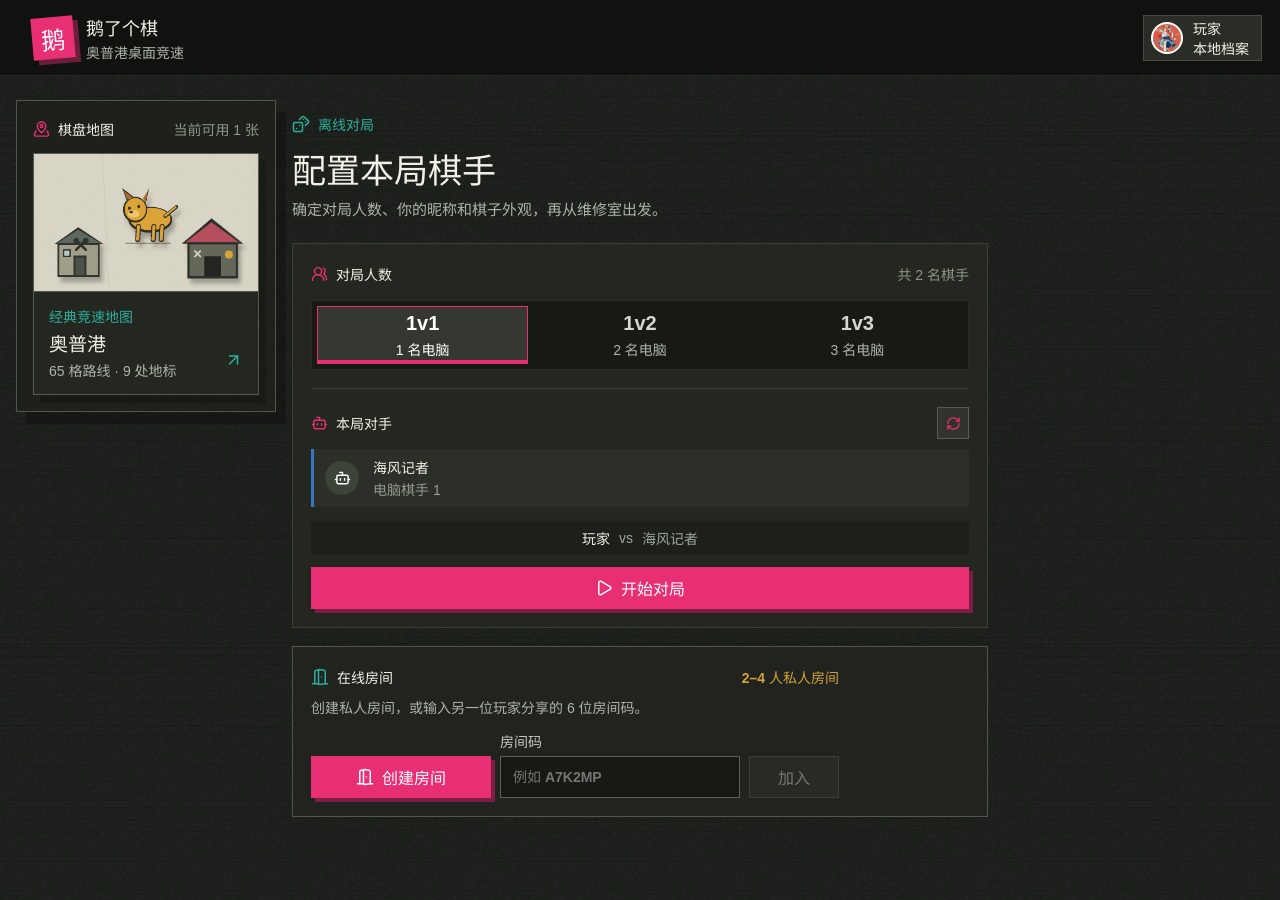
Scenario: 客户端路由 › 个人信息侧栏可收起并阻止超长昵称开始对局
Expected: the element "个人信息" is not shown
Click the button with aria-label "个人信息" at (1202, 38), box [1143,15,1262,61]
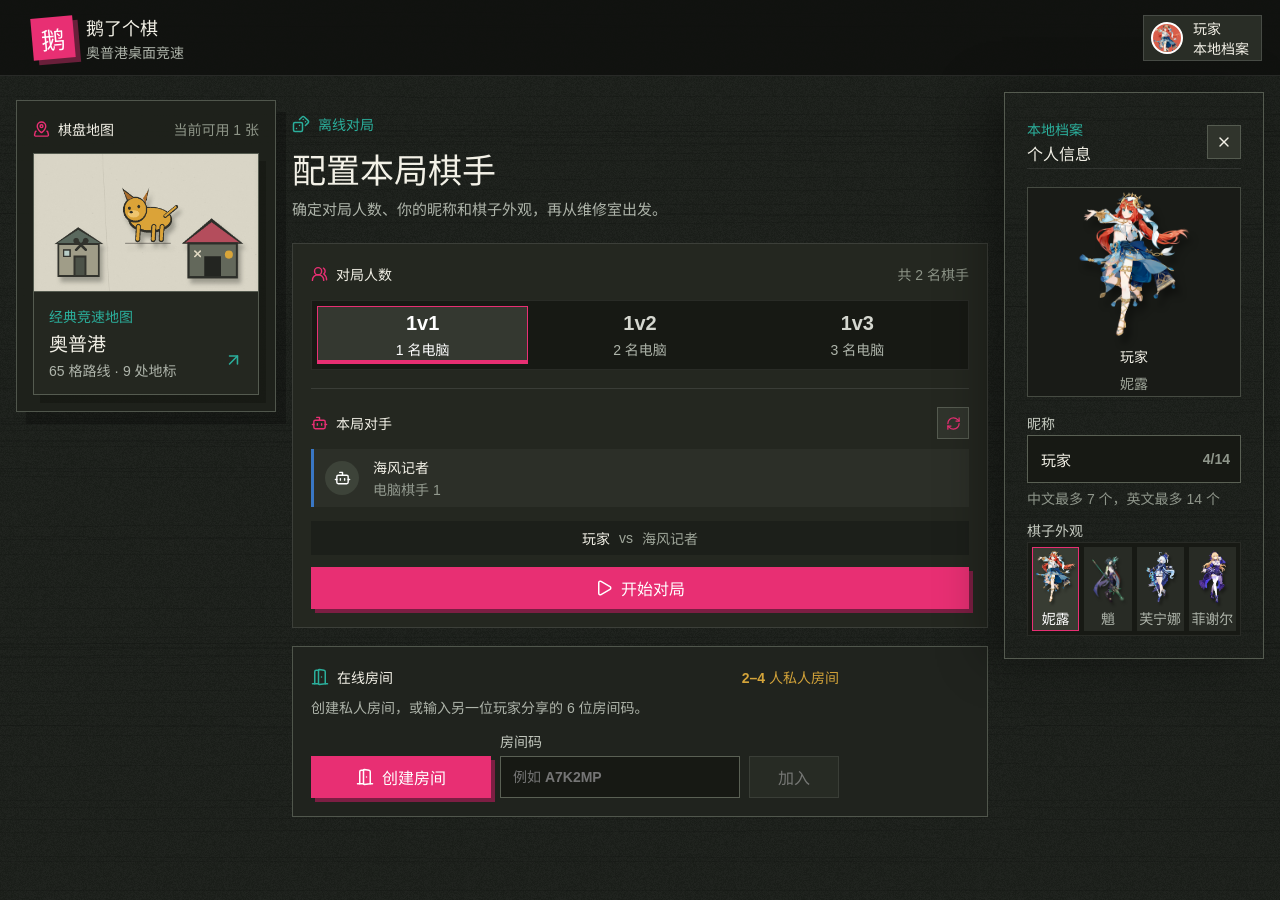
Result: the element "个人信息" is shown at [1004,92,1264,659]
Click the button named "关闭个人信息" at (1224, 142), box [1207,124,1241,158]
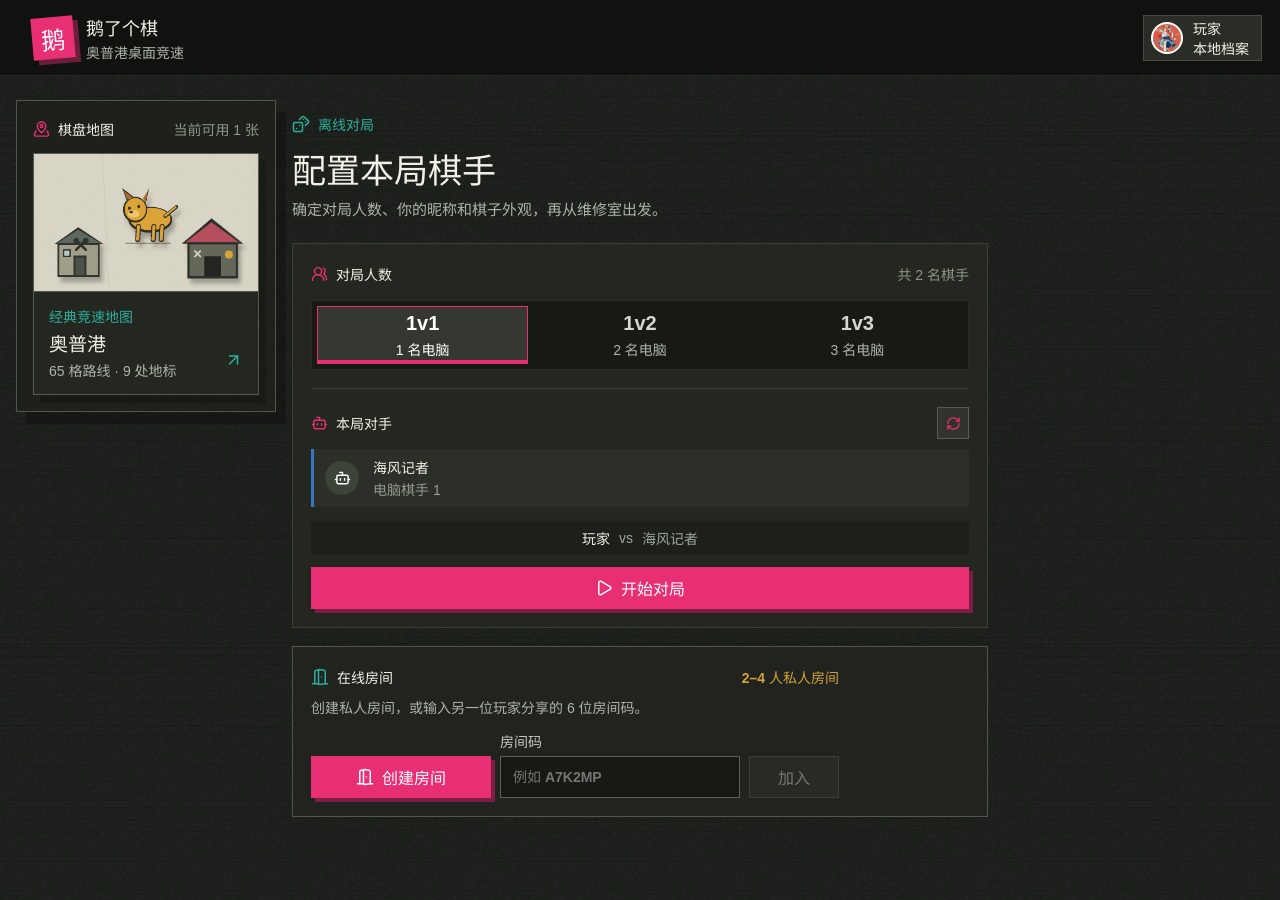
Result: the text "个人信息" is gone
Click the button with aria-label "个人信息" at (1202, 38), box [1143,15,1262,61]
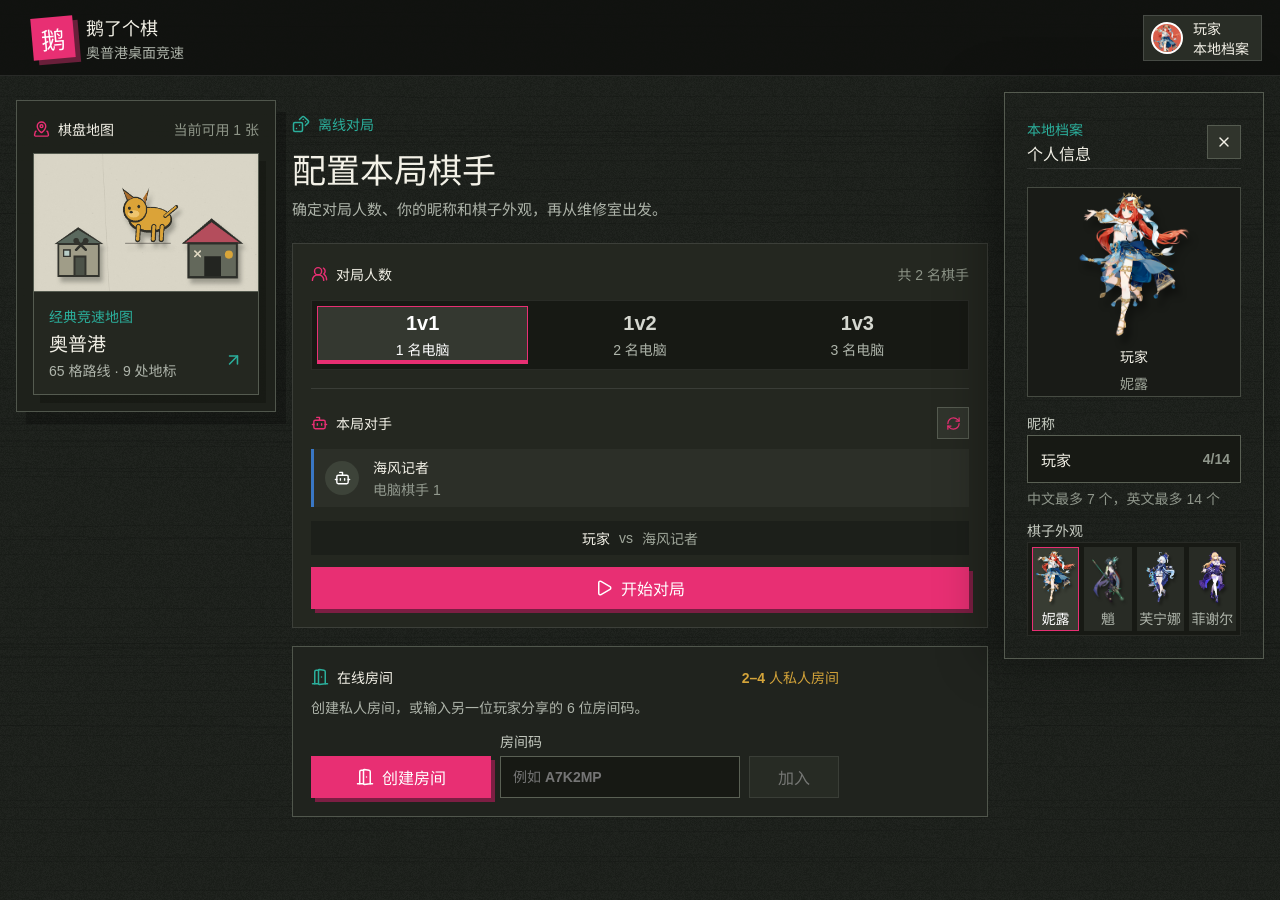
Replace the text in the field labelled "昵称 4/14 中文最多 7 个，英文最多 14 个" with "一二三四五六七八" at (1134, 459), box [1027,435,1241,483]
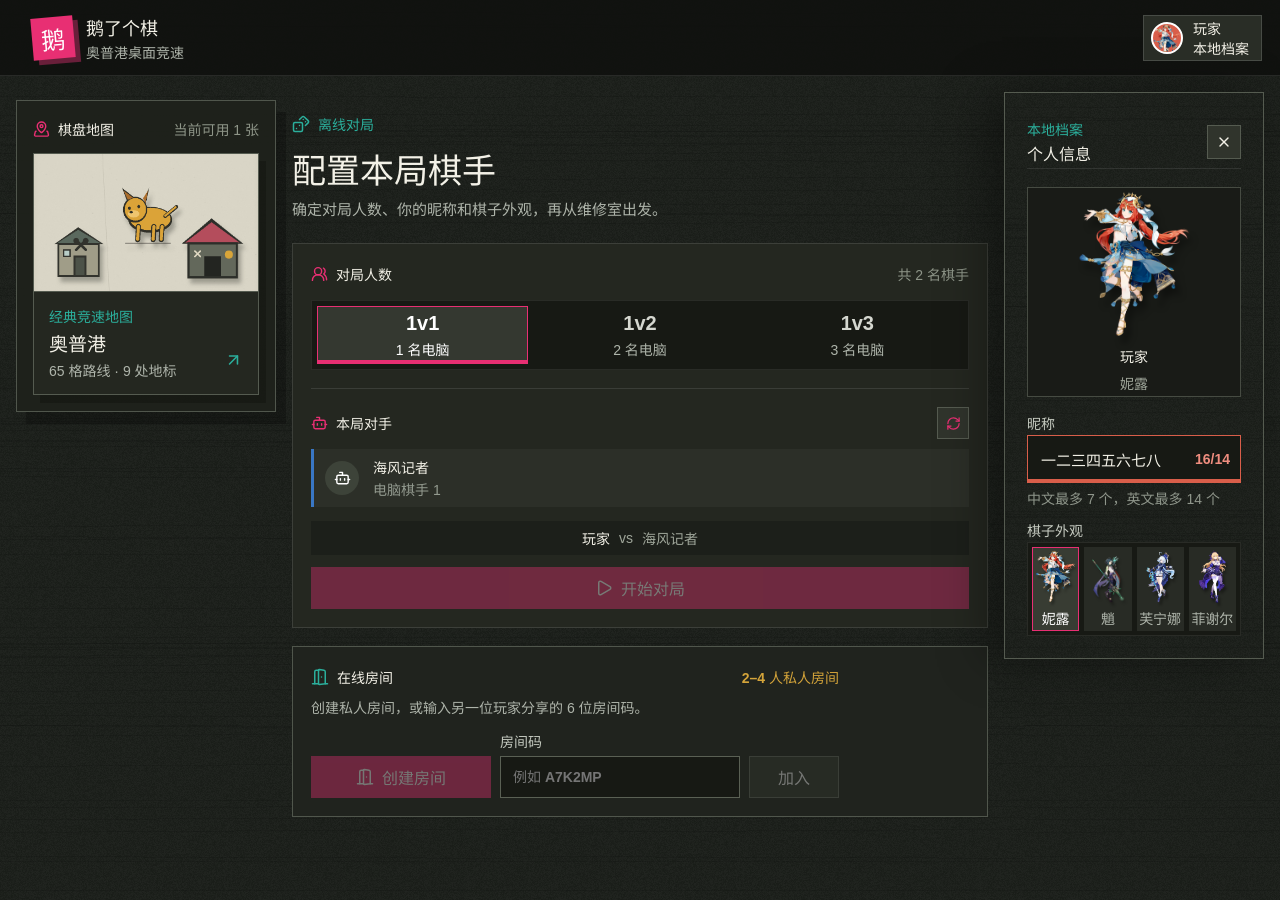
Result: the text "中文最多 7 个，英文最多 14 个" is shown at [1027,483,1241,508]
Result: the button "开始对局" is disabled at [311,567,969,609]
